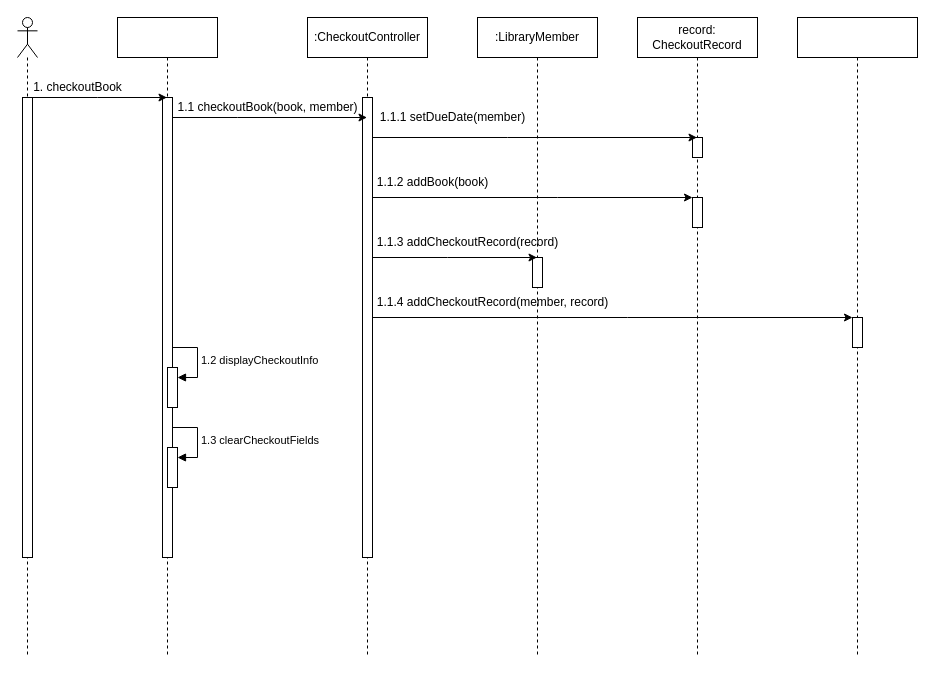
Some shapes in this 935 by 675 pixel diagram are drawn without their labels. Here are the shapes that lost their labels. From the top down, the centre of each, then its label:
(x=167, y=337): :CheckoutForm
(x=857, y=337): :LibraryDBSubsystem
